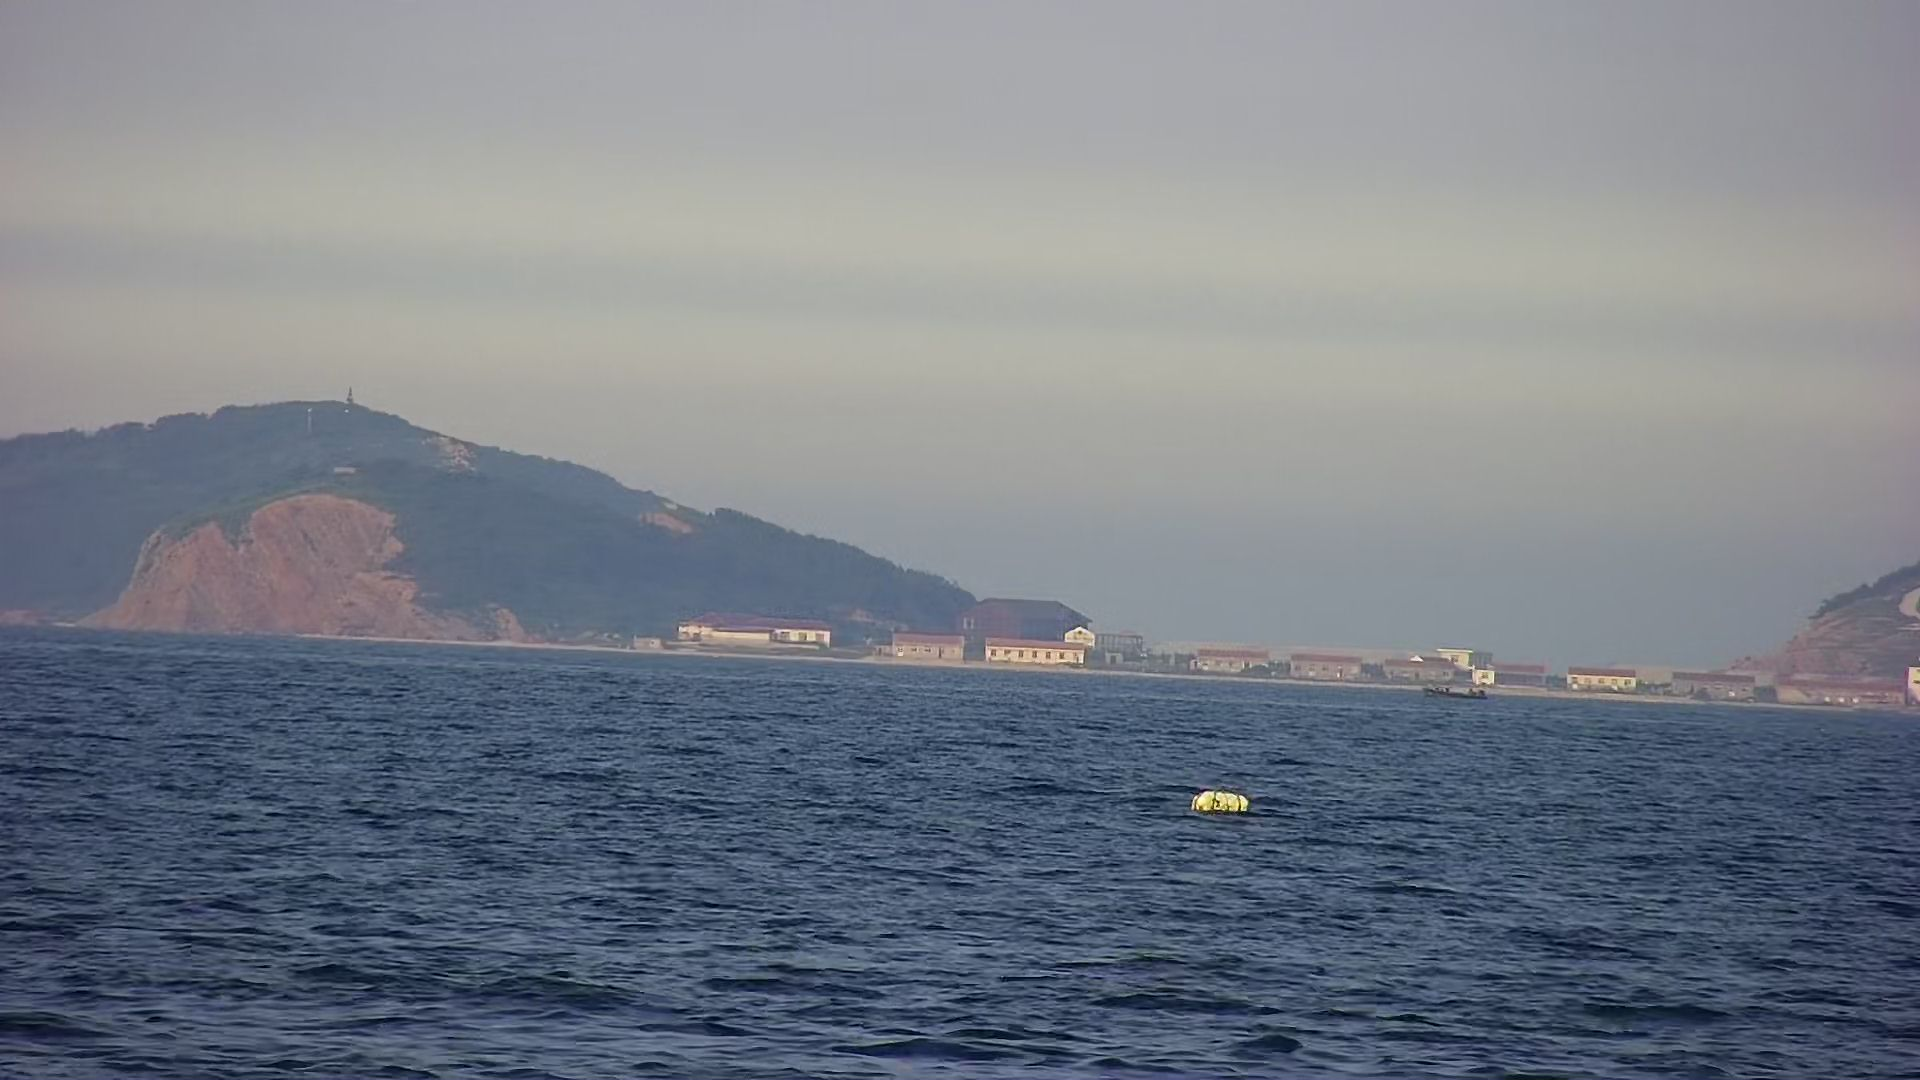rubbish: (1185, 773, 1249, 828)
